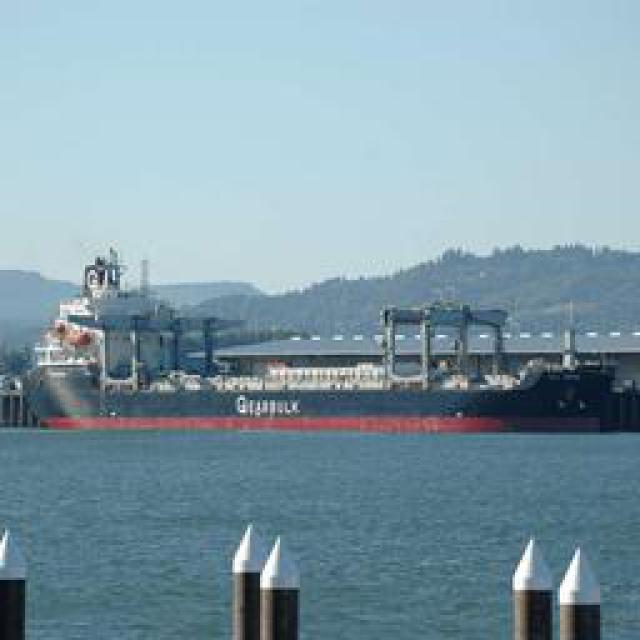Ship: (13, 331, 611, 431)
